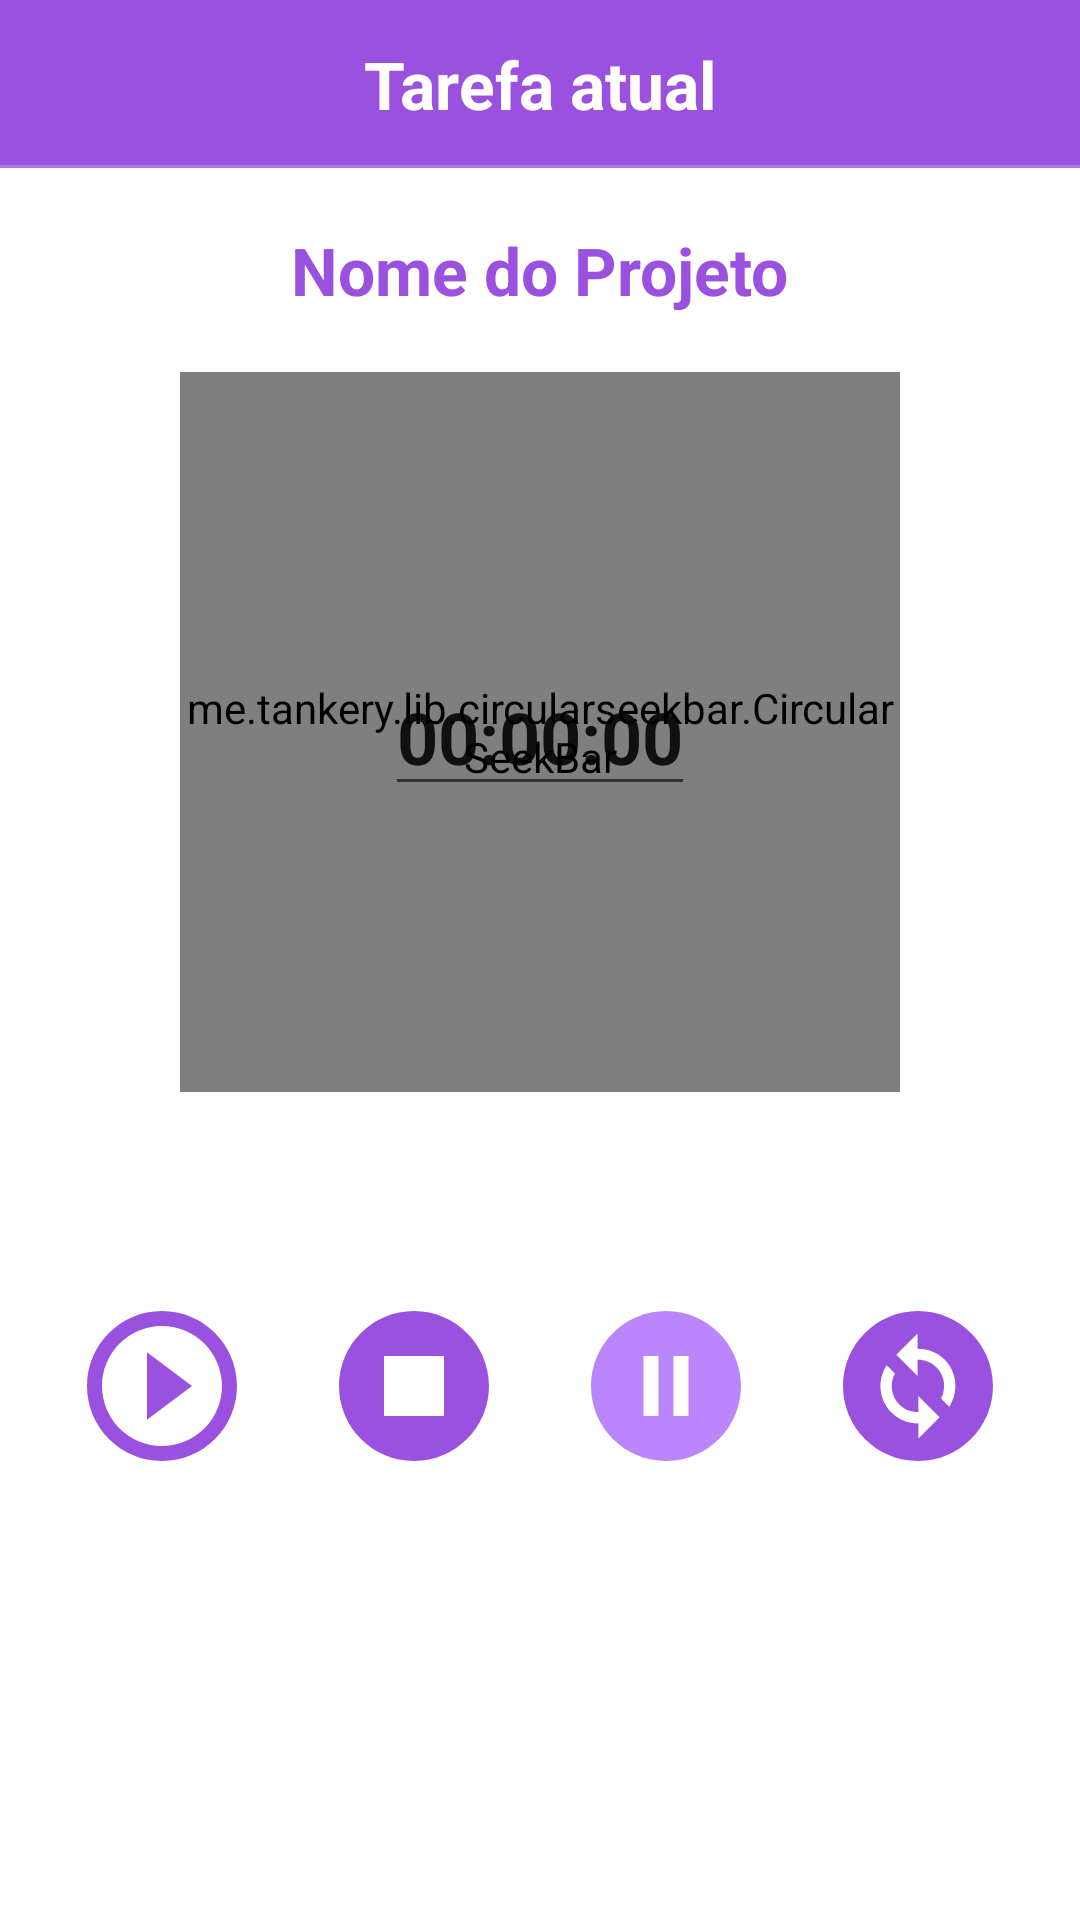

Screen size 1080 x 1920. Icon name, then its center in pixels as point (x, y):
pause cronometro: point (666, 1386)
play cronometro: point (162, 1386)
reset cronometro: point (918, 1386)
stop cronometro: point (414, 1386)
